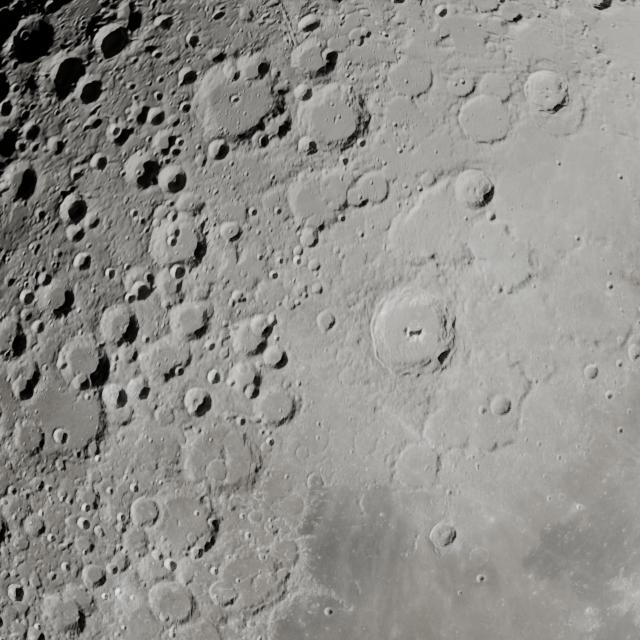crater: (369, 278, 463, 376), (5, 14, 56, 73), (58, 341, 111, 395), (522, 64, 570, 117), (6, 353, 44, 408), (48, 54, 90, 101), (454, 167, 498, 209), (91, 20, 132, 61), (125, 150, 162, 192), (6, 161, 38, 207), (107, 305, 141, 348), (60, 191, 94, 232), (0, 319, 28, 362), (182, 385, 216, 419), (152, 165, 188, 197), (239, 53, 273, 80), (81, 74, 106, 108), (64, 220, 88, 247), (179, 65, 202, 90), (201, 142, 227, 162), (255, 134, 266, 148)
rock: (398, 318, 428, 346)
